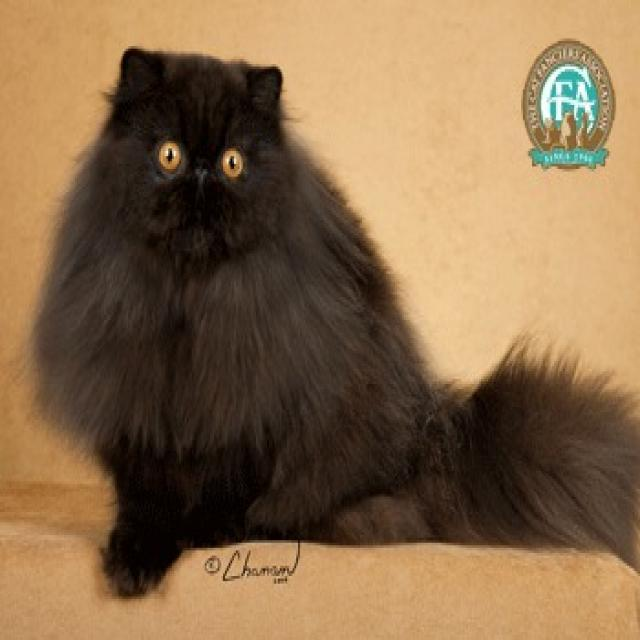Persian: (94, 42, 296, 289)
